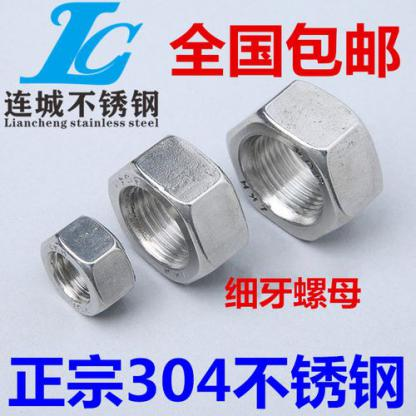FOD: (224, 77, 388, 246), (106, 133, 250, 286), (36, 216, 136, 321)
